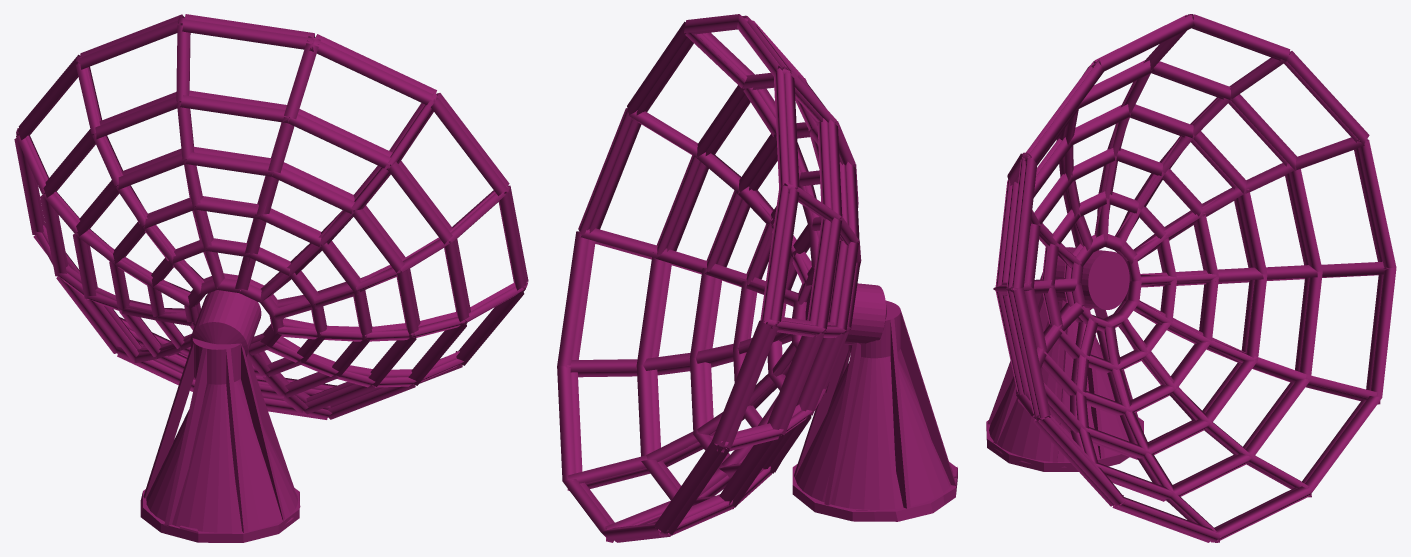
The model's file is LargeBlockRadarRynAR_Constr2.fbx.
3 renders of one model, left to right at view 1: azimuth 30°, elevation 25°; view 2: azimuth 150°, elevation 25°; view 3: azimuth 270°, elevation 25°, orthographic. The views are drawn at different scales.
Visible parts, largest first — view 1: Cone; view 2: Cone; view 3: Cone.
Part boxes in pixels (x1,y1,x2,y2): Cone: (14,14,528,542); Cone: (557,14,957,542); Cone: (986,14,1396,542).
Bounding box in the file's own units: 5.65 × 6.58 × 5.56.
